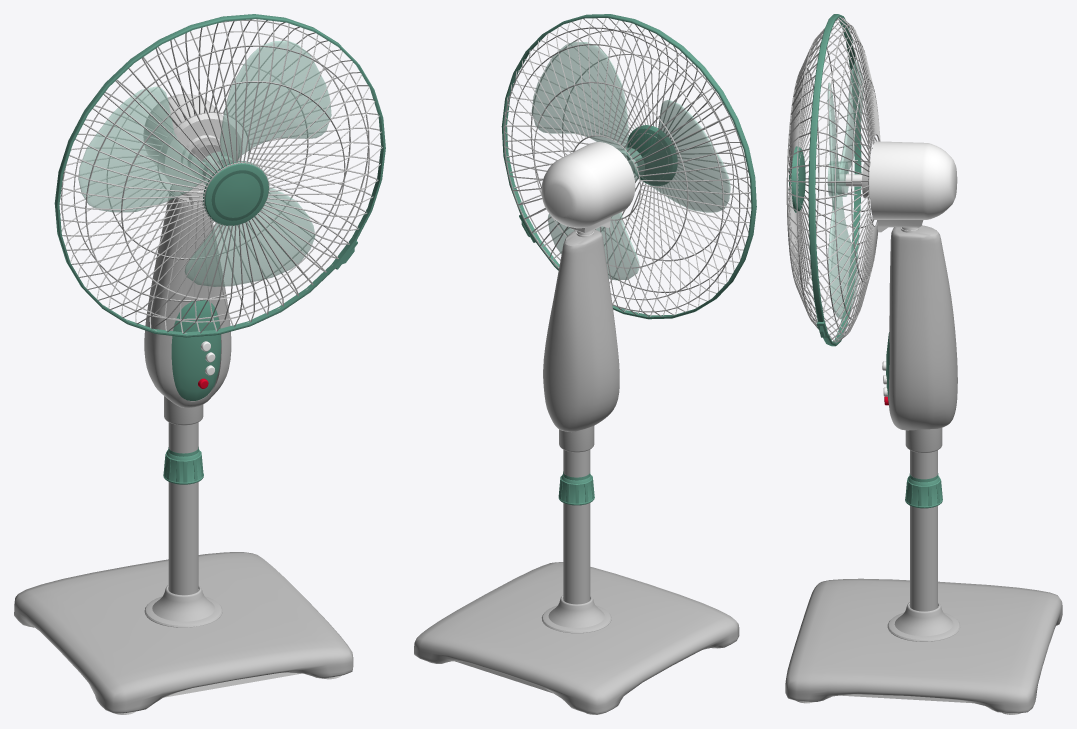
File: pedestal_fans__kipas_angin_berdiri.glb
3 renders of one model, left to right at view 1: azimuth 30°, elevation 25°; view 2: azimuth 150°, elevation 25°; view 3: azimuth 270°, elevation 25°, orthographic. The views are drawn at different scales.
Parts seen in each view (by area): view 1: Cube_11, Sphere_34, Plane.002_33, Cube.002_13, Circle_10, Cylinder.001_18, Cylinder.004_21, Cube.001_12, Cylinder.008_25, Cylinder_17, Cylinder.003_20, Cylinder.002_19 (+1 smaller); view 2: Cube_11, Sphere_34, Plane.002_33, Cube.002_13, Cylinder.004_21, Circle_10, Cylinder.001_18, Cylinder.008_25, Cylinder_17, Cylinder.003_20, Cylinder.002_19; view 3: Cube_11, Sphere_34, Cube.002_13, Cylinder.004_21, Circle_10, Plane.002_33, Cylinder.001_18, Cylinder_17, Cylinder.003_20, Cylinder.002_19, Cylinder.008_25, Cylinder.006_23.
Boxes of the visible parts, x1,y1,x2,y2 form: Cube_11: [14, 552, 353, 713]; Sphere_34: [59, 19, 382, 333]; Plane.002_33: [78, 41, 331, 286]; Cube.002_13: [144, 185, 231, 407]; Circle_10: [54, 14, 385, 337]; Cylinder.001_18: [168, 422, 198, 595]; Cylinder.004_21: [143, 94, 242, 194]; Cube.001_12: [171, 300, 221, 400]; Cylinder.008_25: [203, 161, 269, 225]; Cylinder_17: [144, 585, 222, 627]; Cylinder.003_20: [163, 447, 203, 484]; Cylinder.002_19: [164, 396, 203, 425]; Cube_11: [414, 562, 739, 714]; Sphere_34: [503, 18, 751, 316]; Plane.002_33: [531, 41, 730, 280]; Cube.002_13: [543, 229, 619, 432]; Cylinder.004_21: [541, 142, 635, 228]; Circle_10: [501, 14, 756, 319]; Cylinder.001_18: [563, 449, 590, 604]; Cylinder.008_25: [626, 125, 677, 185]; Cylinder_17: [541, 595, 611, 633]; Cylinder.003_20: [558, 471, 594, 505]; Cylinder.002_19: [559, 426, 594, 452]; Cube_11: [785, 578, 1062, 713]; Sphere_34: [786, 17, 880, 342]; Cube.002_13: [888, 225, 957, 430]; Cylinder.004_21: [869, 141, 957, 219]; Circle_10: [808, 14, 861, 346]; Plane.002_33: [827, 61, 863, 319]; Cylinder.001_18: [910, 450, 937, 611]; Cylinder_17: [887, 602, 960, 641]; Cylinder.003_20: [905, 473, 942, 508]; Cylinder.002_19: [905, 428, 942, 452]; Cylinder.008_25: [789, 146, 805, 212]; Cylinder.006_23: [827, 161, 848, 196].
Bounding box in the file's own units: 0.7669 × 1.61 × 0.6448.
